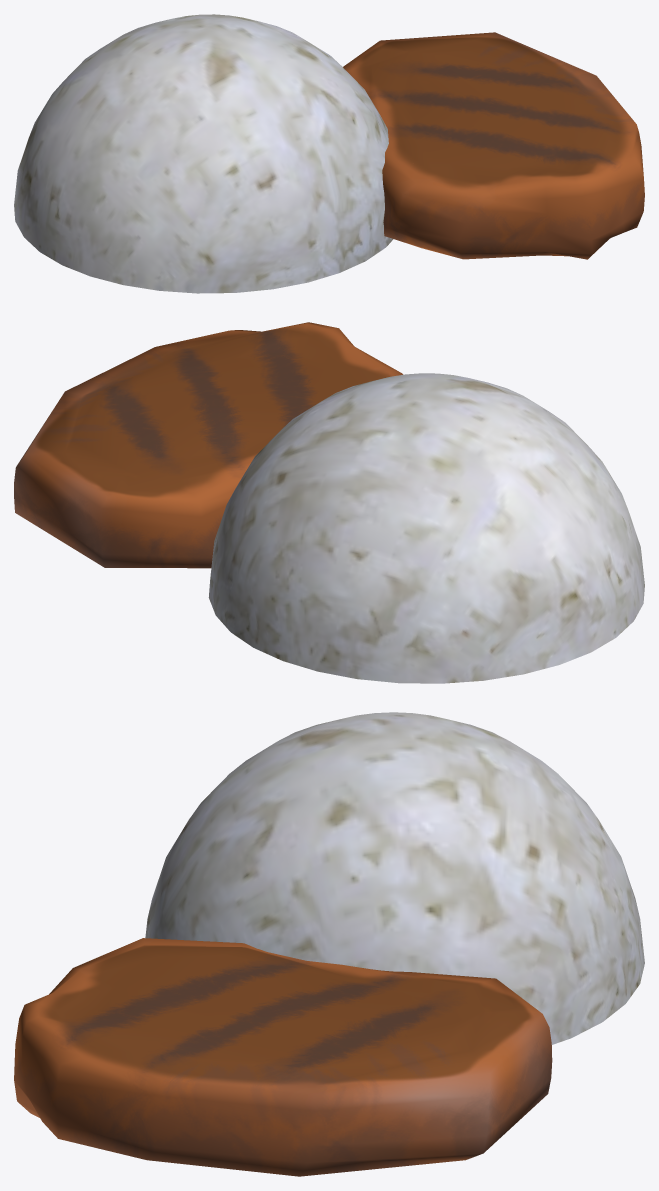
File: GrilledPorkChopRice.fbx
The picture shows the model from 3 angles, top to bottom: view 1: azimuth 30°, elevation 25°; view 2: azimuth 150°, elevation 25°; view 3: azimuth 270°, elevation 25°; orthographic projection. The views are drawn at different scales.
Visible parts, largest first — view 1: Com.001, input.003; view 2: Com.001, input.003; view 3: Com.001, input.003.
Part boxes in pixels (box(x1,y1,x2,y2)): Com.001: box(14, 14, 393, 293); input.003: box(343, 32, 644, 259); Com.001: box(208, 373, 644, 683); input.003: box(14, 322, 402, 568); Com.001: box(145, 712, 644, 1044); input.003: box(14, 938, 552, 1176).
Bounding box in the file's own units: 312 × 102 × 251.
2 materials, 2 textured.
